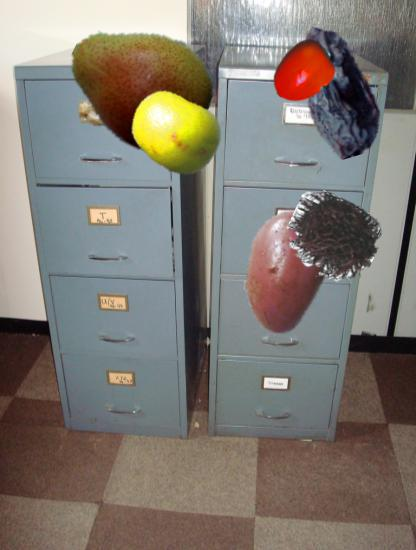Dates: (271, 22, 407, 158)
Ginger: (75, 42, 189, 156)
Kaki: (270, 40, 337, 107)
Pear: (65, 11, 213, 159)
Pomelo: (129, 85, 223, 179)
Potato: (221, 207, 350, 336)
Rambutan: (286, 193, 379, 286)
